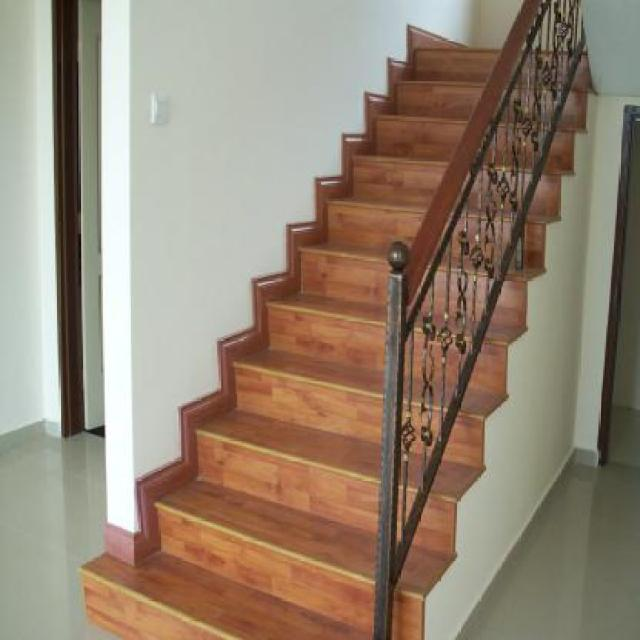stair: (90, 17, 608, 640)
